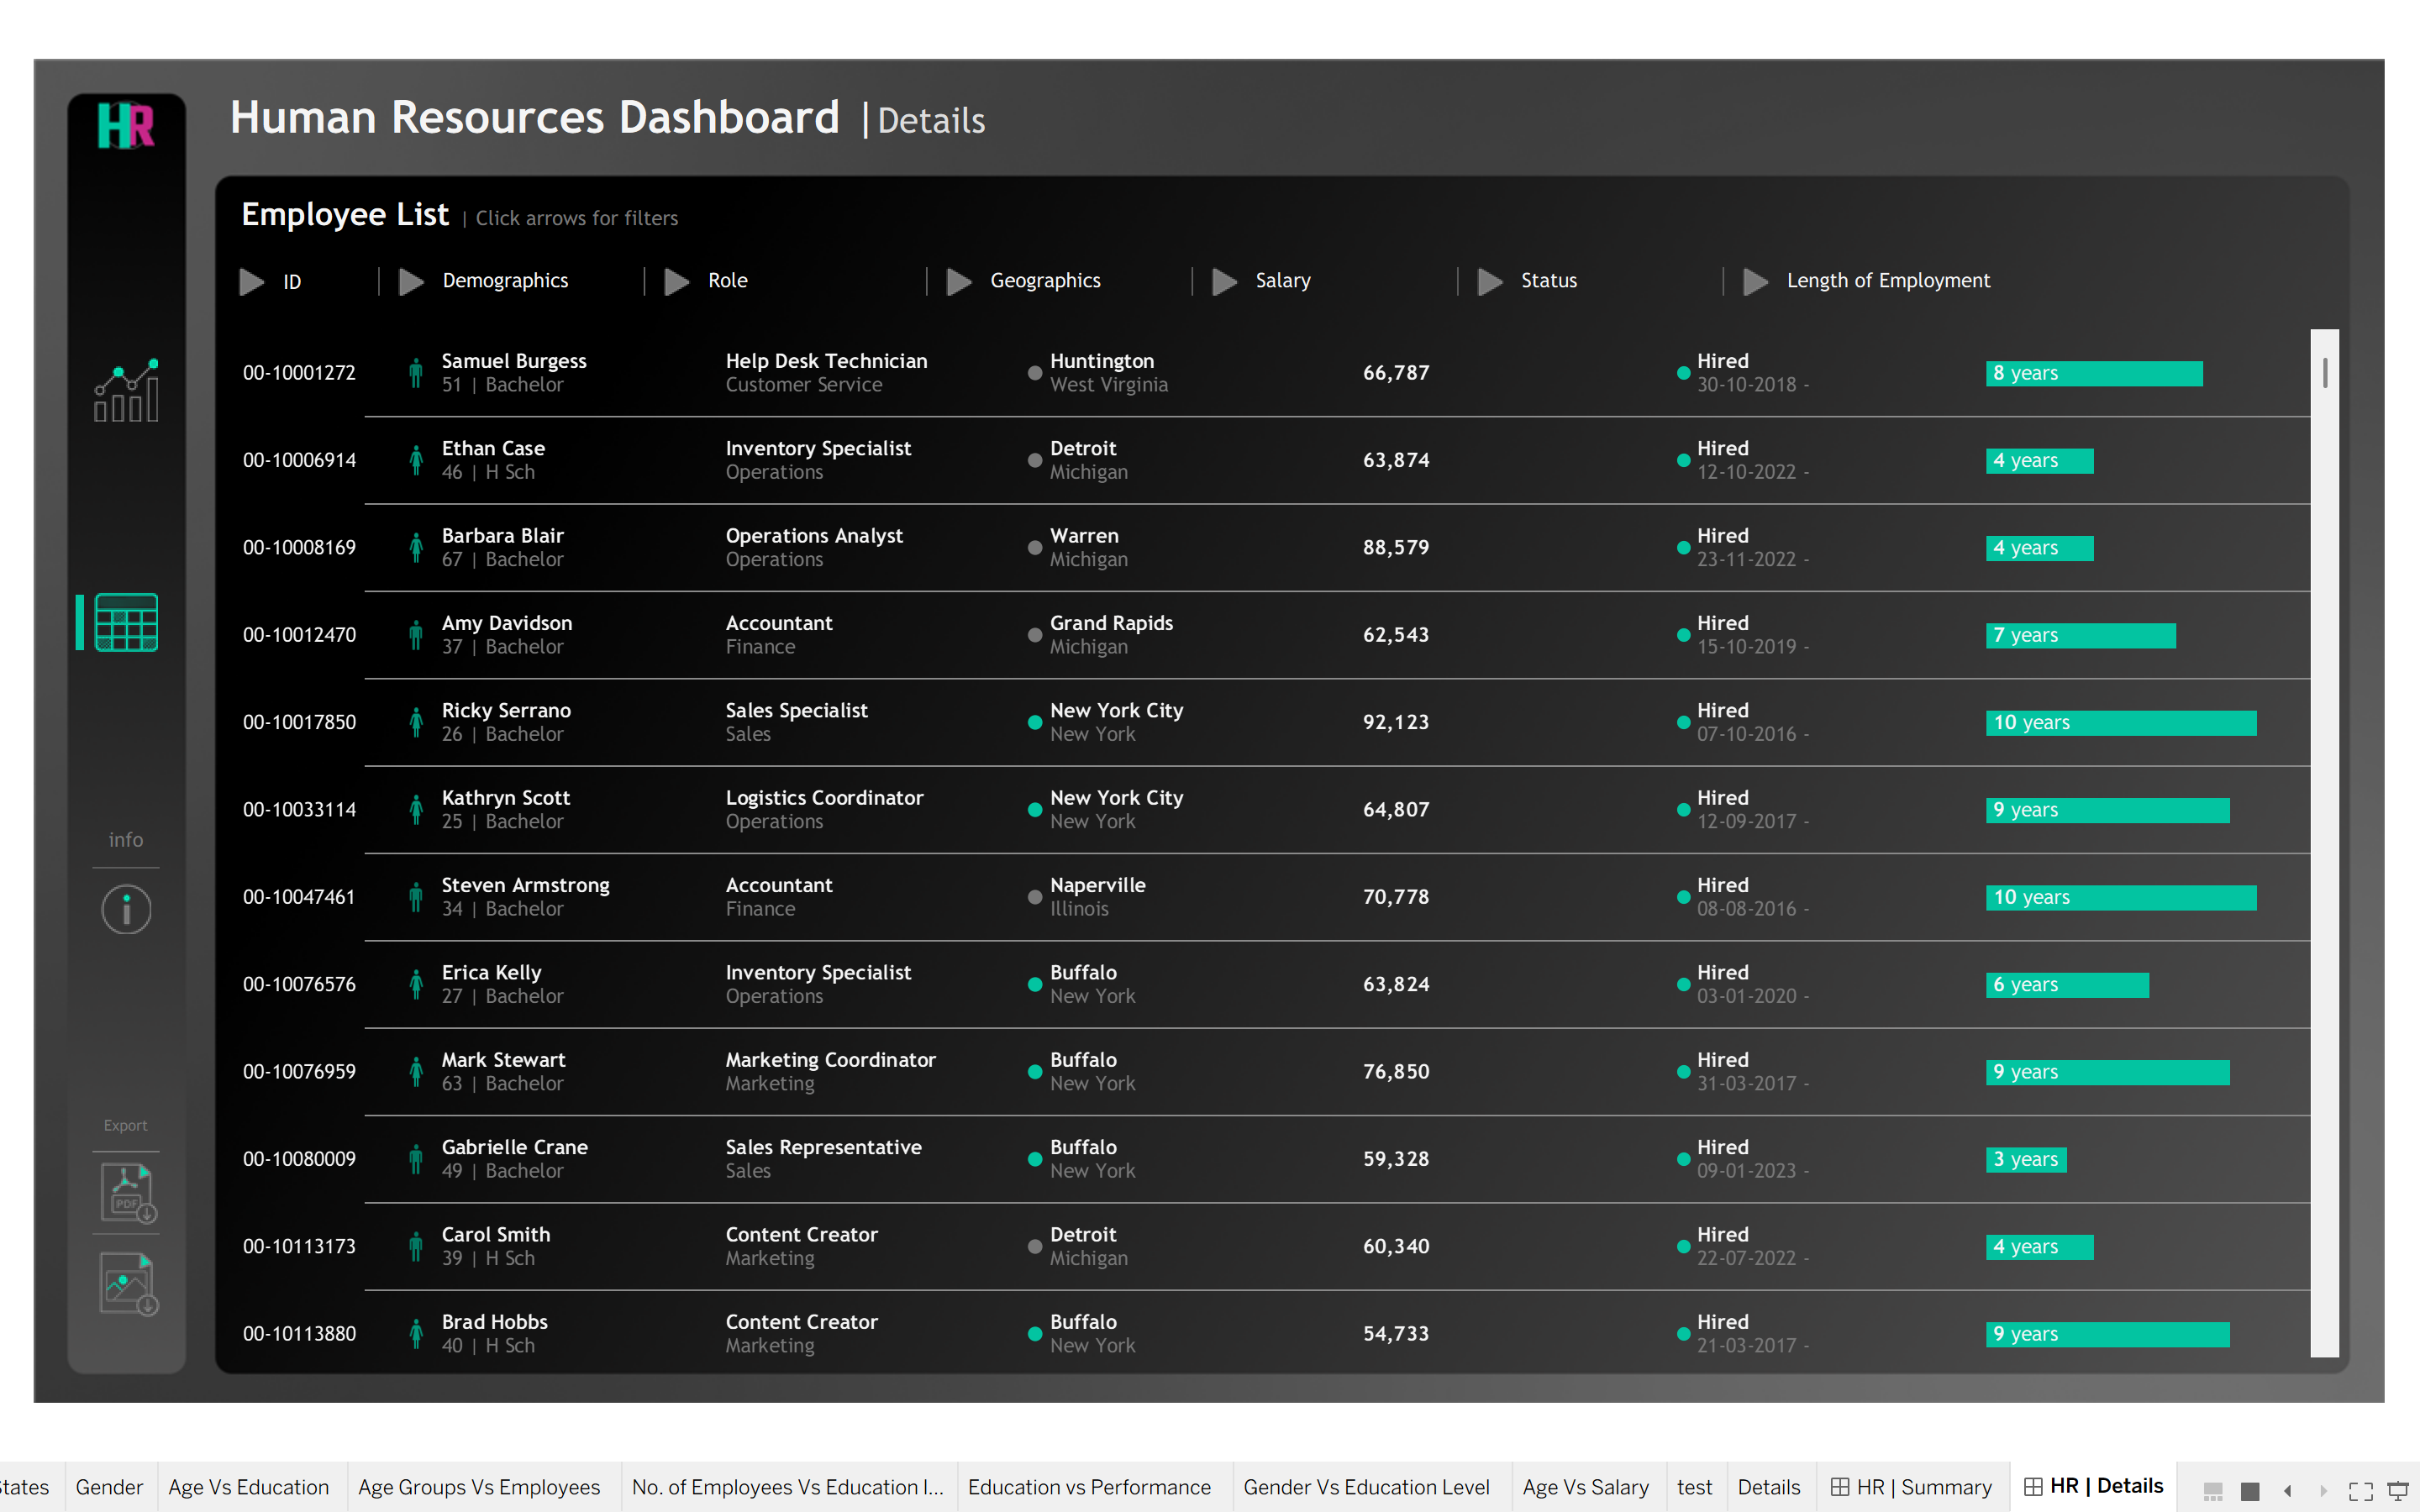

This screenshot's page, from the dashboard's own definition file:
{"tool":"tableau","page":{"name":"HR | Details","canvas":[1400,800],"ordinal":0},"visuals":[{"type":"image","param":"Image/background dashbaord details.png","box":[0,0,1400,800]},{"type":"text","box":[110,0,673,70]},{"type":"blank","box":[783,0,597,70]},{"type":"text","box":[92,13,1298,218]},{"type":"image","param":"Image/Logo.png","box":[20,20,70,38]},{"type":"blank","box":[20,58,70,110]},{"type":"text","box":[117,77,1256,37]},{"type":"dashboard-object","box":[117,114,25,37]},{"type":"text","box":[142,114,57,37]},{"type":"blank","box":[199,114,13,228]},{"type":"dashboard-object","box":[212,114,25,36]},{"type":"text","box":[237,114,120,36]},{"type":"blank","box":[357,114,13,228]},{"type":"dashboard-object","box":[370,114,25,36]},{"type":"text","box":[395,114,126,36]},{"type":"blank","box":[525,114,13,228]},{"type":"dashboard-object","box":[538,114,25,36]},{"type":"text","box":[563,114,120,36]},{"type":"blank","box":[683,114,13,228]},{"type":"dashboard-object","box":[696,114,25,36]},{"type":"text","box":[720.9,114,120,36]},{"type":"blank","box":[841,114,13,228]},{"type":"dashboard-object","box":[853.9,114,25,36]},{"type":"text","box":[878.9,114,120,36]},{"type":"blank","box":[998.9,114,13,228]},{"type":"dashboard-object","box":[1011.9,114,25,36]},{"type":"text","box":[1036.9,114,336.1,36]},{"type":"filter","title":"Details","param":"[federated.1ru0z8r0nqcx4818v7od20hwav44].[none:Calculation_0846406147260418:nk]","box":[212,150,145,48]},{"type":"filter","title":"Details","param":"[federated.1ru0z8r0nqcx4818v7od20hwav44].[none:Job Title:nk]","box":[370,150,155,48]},{"type":"filter","title":"Details","param":"[federated.1ru0z8r0nqcx4818v7od20hwav44].[none:Calculation_1481096908328965:nk]","box":[538,150,145,49]},{"type":"filter","title":"Details","param":"[federated.1ru0z8r0nqcx4818v7od20hwav44].[sum:Salary:qk]","box":[696,150,145,65]},{"type":"filter","title":"Details","param":"[federated.1ru0z8r0nqcx4818v7od20hwav44].[none:Calculation_0787306388230144:nk]","box":[853.9,150,145,48]},{"type":"filter","title":"Details","param":"[federated.1ru0z8r0nqcx4818v7od20hwav44].[sum:Calculation_1018479850840064:qk]","box":[1011.9,150,361.1,47]},{"type":"filter","title":"Details","param":"[federated.1ru0z8r0nqcx4818v7od20hwav44].[none:Employee_ID:nk]","box":[117,151,82,48]},{"type":"dashboard-object","box":[30,178,50,38]},{"type":"filter","title":"Details","param":"[federated.1ru0z8r0nqcx4818v7od20hwav44].[none:Gender:nk]","box":[212,198,145,48]},{"type":"filter","title":"Details","param":"[federated.1ru0z8r0nqcx4818v7od20hwav44].[none:Department:nk]","box":[370,198,155,48]},{"type":"filter","title":"Details","param":"[federated.1ru0z8r0nqcx4818v7od20hwav44].[yr:Hiredate:ok]","box":[853.9,198,145,48]},{"type":"filter","title":"Details","param":"[federated.1ru0z8r0nqcx4818v7od20hwav44].[none:State:nk]","box":[538,199,145,48]},{"type":"blank","box":[30,216,50,100]},{"type":"filter","title":"Details","param":"[federated.1ru0z8r0nqcx4818v7od20hwav44].[none:Calculation_1179556890259457:nk]","box":[212,246,145,48]},{"type":"filter","title":"Details","param":"[federated.1ru0z8r0nqcx4818v7od20hwav44].[yr:Termdate:ok]","box":[853.9,246,145,48]},{"type":"filter","title":"Details","param":"[federated.1ru0z8r0nqcx4818v7od20hwav44].[none:City:nk]","box":[538,247,145,48]},{"type":"filter","title":"Details","param":"[federated.1ru0z8r0nqcx4818v7od20hwav44].[none:Education Level:nk]","box":[212,294,145,48]},{"type":"dashboard-object","box":[30,316,50,38]},{"type":"blank","box":[25,319,5,33]},{"type":"worksheet","title":"Details","mark":"Shape","rows":["Employee_ID"],"cols":["Calculation_0846406146097153","Calculation_0846406146097153","Calculation_0846406146097153","Calculation_0846406146097153","Calculation_0846406146097153","Calculation_1018479850840064"],"box":[117,352,1256,421]},{"type":"blank","box":[30,354,50,100]},{"type":"text","box":[30,454,50,22]},{"type":"blank","box":[30,476,50,11]},{"type":"dashboard-object","box":[30,487,50,38]},{"type":"blank","box":[30,525,50,100]},{"type":"text","box":[30,625,50,20]},{"type":"blank","box":[30,645,50,11]},{"type":"dashboard-object","box":[30,656,50,38]},{"type":"blank","box":[30,694,50,11]},{"type":"dashboard-object","box":[30,705,50,48]}]}

Visuals, with their boxes on the page's 1400x800 design canvas (x1, y1, x2, y2). These are canvas units, not pixel positions in the 2420x1512 screenshot, which may show the page scaled, cropped or inside an application window:
image: {"x1": 0, "y1": 0, "x2": 1400, "y2": 800}
text: {"x1": 110, "y1": 0, "x2": 783, "y2": 70}
blank: {"x1": 783, "y1": 0, "x2": 1380, "y2": 70}
text: {"x1": 92, "y1": 13, "x2": 1390, "y2": 231}
image: {"x1": 20, "y1": 20, "x2": 90, "y2": 58}
blank: {"x1": 20, "y1": 58, "x2": 90, "y2": 168}
text: {"x1": 117, "y1": 77, "x2": 1373, "y2": 114}
dashboard-object: {"x1": 117, "y1": 114, "x2": 142, "y2": 151}
text: {"x1": 142, "y1": 114, "x2": 199, "y2": 151}
blank: {"x1": 199, "y1": 114, "x2": 212, "y2": 342}
dashboard-object: {"x1": 212, "y1": 114, "x2": 237, "y2": 150}
text: {"x1": 237, "y1": 114, "x2": 357, "y2": 150}
blank: {"x1": 357, "y1": 114, "x2": 370, "y2": 342}
dashboard-object: {"x1": 370, "y1": 114, "x2": 395, "y2": 150}
text: {"x1": 395, "y1": 114, "x2": 521, "y2": 150}
blank: {"x1": 525, "y1": 114, "x2": 538, "y2": 342}
dashboard-object: {"x1": 538, "y1": 114, "x2": 563, "y2": 150}
text: {"x1": 563, "y1": 114, "x2": 683, "y2": 150}
blank: {"x1": 683, "y1": 114, "x2": 696, "y2": 342}
dashboard-object: {"x1": 696, "y1": 114, "x2": 721, "y2": 150}
text: {"x1": 721, "y1": 114, "x2": 841, "y2": 150}
blank: {"x1": 841, "y1": 114, "x2": 854, "y2": 342}
dashboard-object: {"x1": 854, "y1": 114, "x2": 879, "y2": 150}
text: {"x1": 879, "y1": 114, "x2": 999, "y2": 150}
blank: {"x1": 999, "y1": 114, "x2": 1012, "y2": 342}
dashboard-object: {"x1": 1012, "y1": 114, "x2": 1037, "y2": 150}
text: {"x1": 1037, "y1": 114, "x2": 1373, "y2": 150}
"Details" filter: {"x1": 212, "y1": 150, "x2": 357, "y2": 198}
"Details" filter: {"x1": 370, "y1": 150, "x2": 525, "y2": 198}
"Details" filter: {"x1": 538, "y1": 150, "x2": 683, "y2": 199}
"Details" filter: {"x1": 696, "y1": 150, "x2": 841, "y2": 215}
"Details" filter: {"x1": 854, "y1": 150, "x2": 999, "y2": 198}
"Details" filter: {"x1": 1012, "y1": 150, "x2": 1373, "y2": 197}
"Details" filter: {"x1": 117, "y1": 151, "x2": 199, "y2": 199}
dashboard-object: {"x1": 30, "y1": 178, "x2": 80, "y2": 216}
"Details" filter: {"x1": 212, "y1": 198, "x2": 357, "y2": 246}
"Details" filter: {"x1": 370, "y1": 198, "x2": 525, "y2": 246}
"Details" filter: {"x1": 854, "y1": 198, "x2": 999, "y2": 246}
"Details" filter: {"x1": 538, "y1": 199, "x2": 683, "y2": 247}
blank: {"x1": 30, "y1": 216, "x2": 80, "y2": 316}
"Details" filter: {"x1": 212, "y1": 246, "x2": 357, "y2": 294}
"Details" filter: {"x1": 854, "y1": 246, "x2": 999, "y2": 294}
"Details" filter: {"x1": 538, "y1": 247, "x2": 683, "y2": 295}
"Details" filter: {"x1": 212, "y1": 294, "x2": 357, "y2": 342}
dashboard-object: {"x1": 30, "y1": 316, "x2": 80, "y2": 354}
blank: {"x1": 25, "y1": 319, "x2": 30, "y2": 352}
"Details" worksheet (Shape marks): {"x1": 117, "y1": 352, "x2": 1373, "y2": 773}
blank: {"x1": 30, "y1": 354, "x2": 80, "y2": 454}
text: {"x1": 30, "y1": 454, "x2": 80, "y2": 476}
blank: {"x1": 30, "y1": 476, "x2": 80, "y2": 487}
dashboard-object: {"x1": 30, "y1": 487, "x2": 80, "y2": 525}
blank: {"x1": 30, "y1": 525, "x2": 80, "y2": 625}
text: {"x1": 30, "y1": 625, "x2": 80, "y2": 645}
blank: {"x1": 30, "y1": 645, "x2": 80, "y2": 656}
dashboard-object: {"x1": 30, "y1": 656, "x2": 80, "y2": 694}
blank: {"x1": 30, "y1": 694, "x2": 80, "y2": 705}
dashboard-object: {"x1": 30, "y1": 705, "x2": 80, "y2": 753}
